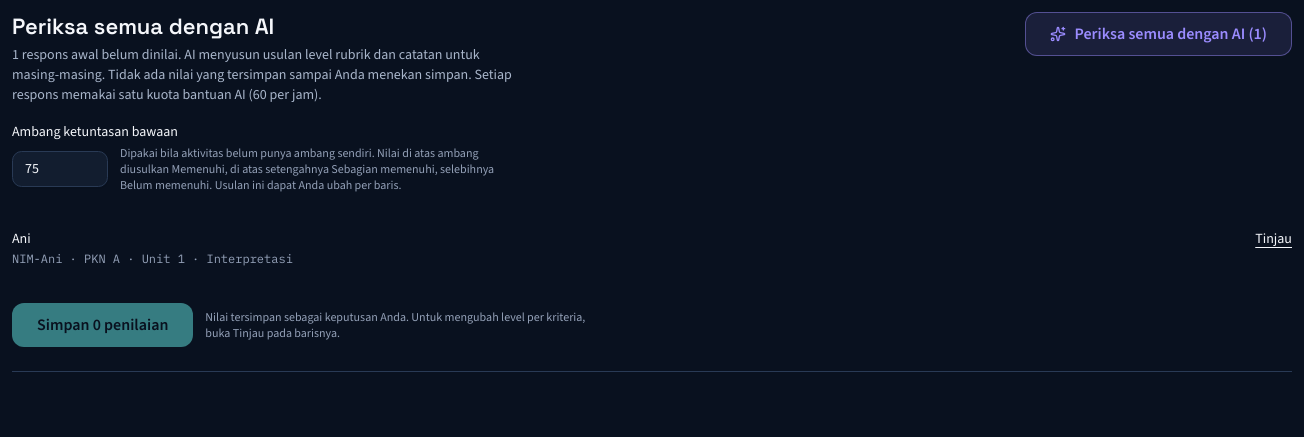
Test: BulkAiReview › menawarkan coba lagi untuk kegagalan layanan
What coordinates should you click on to do the following:
click the button "Periksa semua dengan AI (1)"
I would click on:
 (1159, 34)
Its box is [1026,12,1292,56].
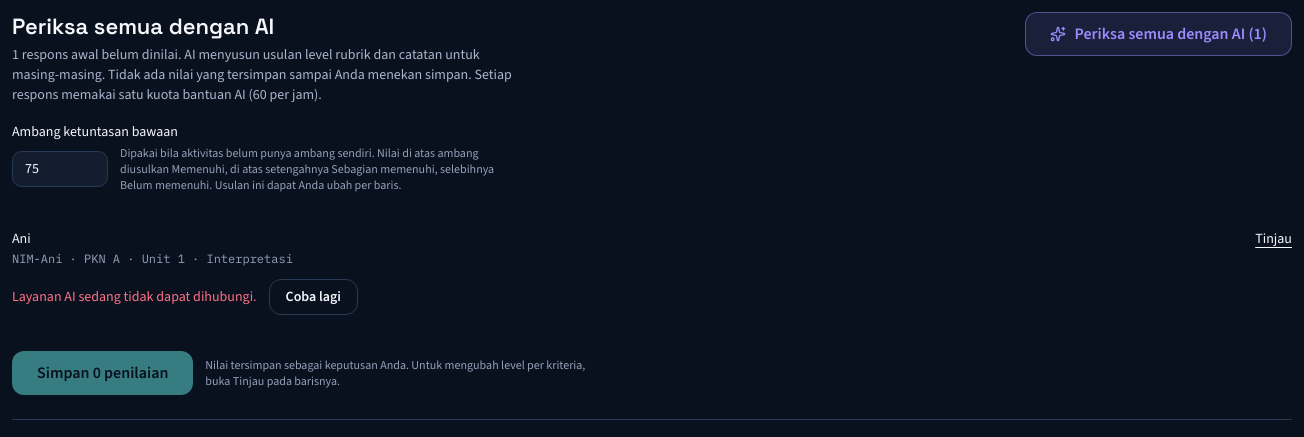
Now the text "Layanan AI sedang tidak dapat dihubungi." is shown, box [12,287,257,307]
Now the button "Coba lagi" is enabled, box [269,279,358,315]
